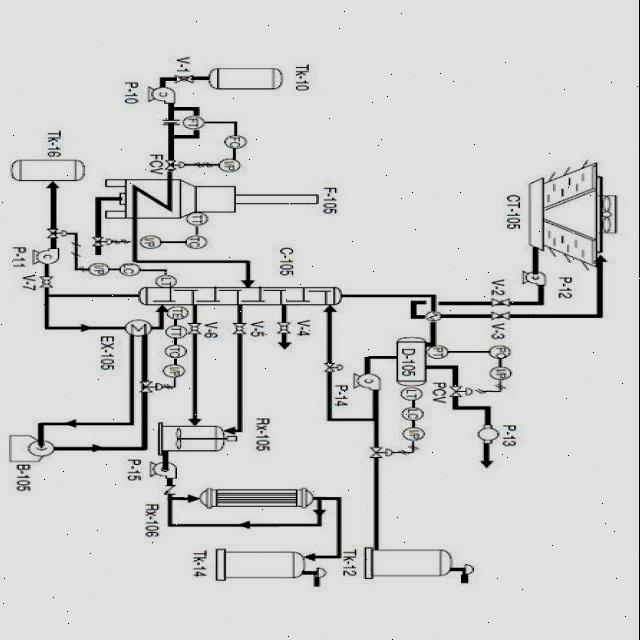Ball Valve: (35, 273, 65, 291), (275, 318, 295, 338), (189, 317, 205, 338), (230, 322, 250, 337)
Centrifugal Pump: (146, 458, 188, 482), (142, 84, 182, 108), (352, 368, 388, 392), (30, 246, 66, 266), (520, 265, 550, 287)
Check Valve: (162, 484, 182, 496)
Gate Valve: (488, 296, 514, 308), (482, 312, 516, 321)
Orifice: (155, 116, 180, 130)
Pneumatic-Diaphragm Gate Valve: (316, 350, 348, 378), (368, 440, 398, 460), (140, 376, 166, 398), (164, 156, 188, 173), (446, 386, 477, 398), (48, 226, 70, 242), (92, 235, 113, 247)
